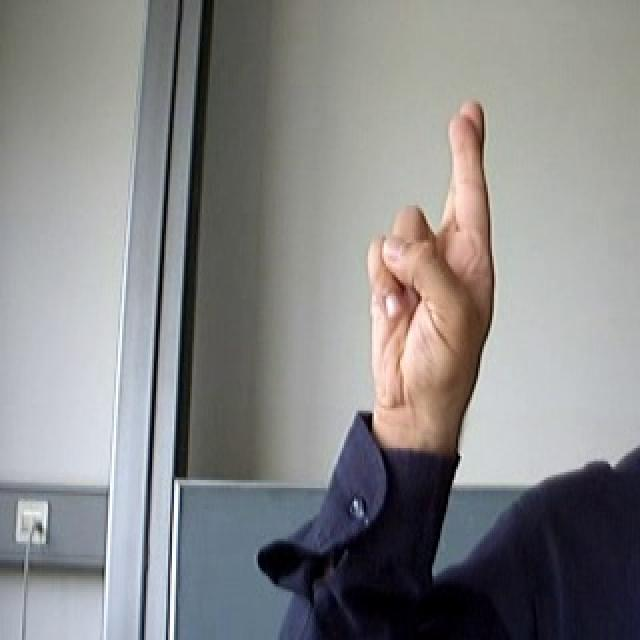R: (353, 91, 508, 426)
